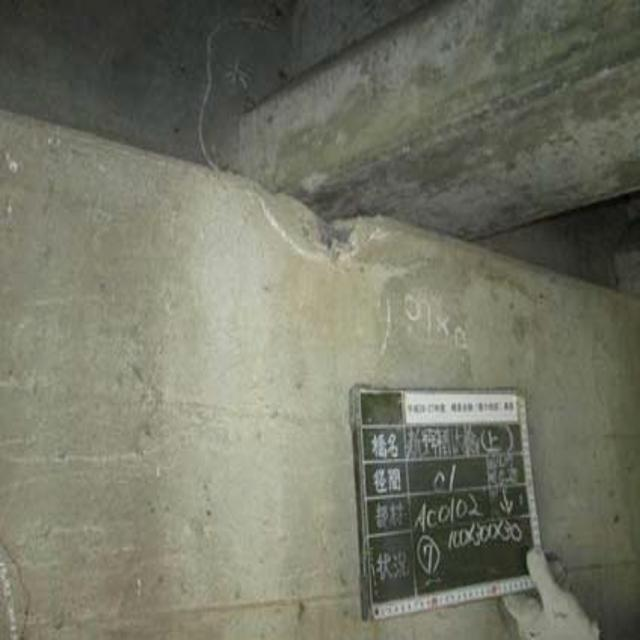spalling: (257, 179, 397, 267)
